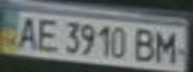0: (109, 24, 130, 60)
1: (93, 23, 115, 57)
3: (60, 19, 81, 55)
9: (78, 20, 96, 56)
A: (12, 12, 42, 51)
B: (130, 26, 160, 63)
E: (33, 16, 63, 53)
M: (151, 29, 184, 65)
